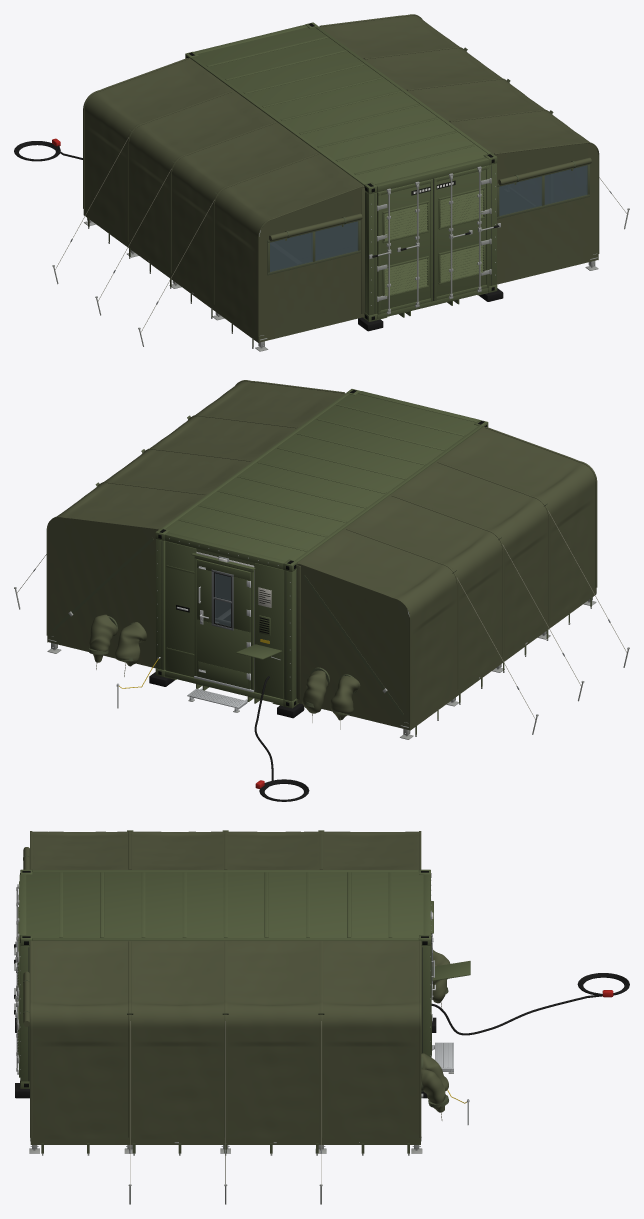
File: mecc-deployed.glb
3 views of the same model, one above another, from view 1: azimuth 30°, elevation 25°; view 2: azimuth 150°, elevation 25°; view 3: azimuth 270°, elevation 25° (orthographic). The views are drawn at different scales.
Visible parts, largest first — view 1: MECC_expansion_L, MECC_core, MECC_expansion_R, MECC_site_kit; view 2: MECC_expansion_L, MECC_core, MECC_expansion_R, MECC_site_kit; view 3: MECC_expansion_R, MECC_core, MECC_expansion_L, MECC_site_kit.
Boxes of the visible parts, <box> form: MECC_expansion_L: <box>52,58,364,351</box>; MECC_core: <box>185,22,503,331</box>; MECC_expansion_R: <box>319,14,629,284</box>; MECC_site_kit: <box>14,138,82,161</box>; MECC_expansion_L: <box>296,427,629,739</box>; MECC_core: <box>149,389,488,718</box>; MECC_expansion_R: <box>14,380,345,676</box>; MECC_site_kit: <box>116,657,309,801</box>; MECC_expansion_R: <box>23,940,448,1204</box>; MECC_core: <box>14,869,470,1098</box>; MECC_expansion_L: <box>23,830,450,1007</box>; MECC_site_kit: <box>431,973,629,1125</box>.
Size of the model in its own units: 9.34 by 2.86 by 9.09.
